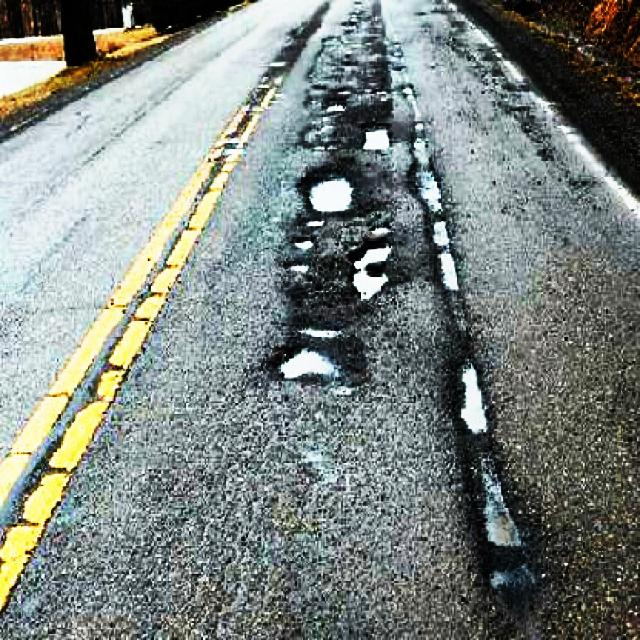pothole: (446, 351, 546, 595), (404, 88, 462, 294), (269, 317, 346, 383), (348, 219, 395, 303), (301, 166, 357, 217), (285, 234, 317, 275), (358, 117, 392, 154), (324, 94, 348, 117)
